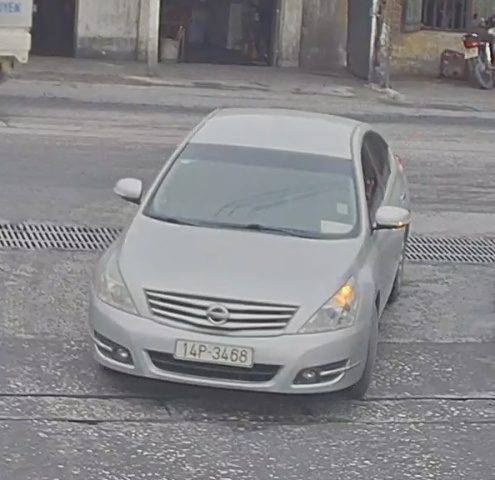vehicle plate: (175, 334, 259, 370)
